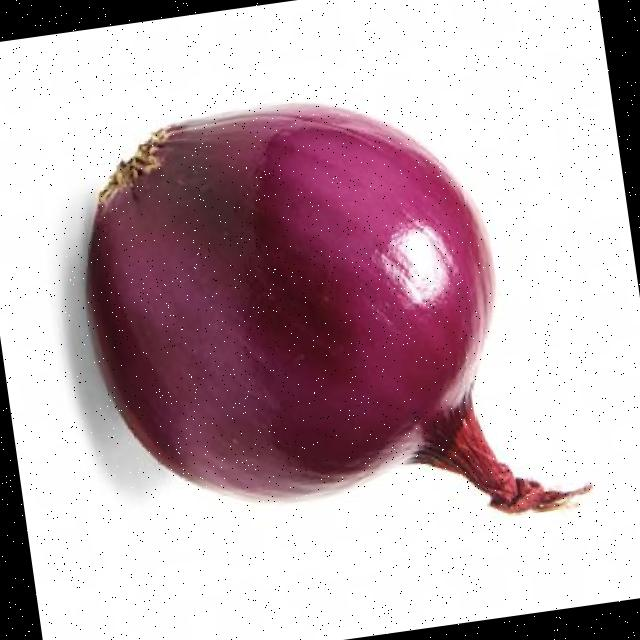Onion: (81, 101, 594, 516)
